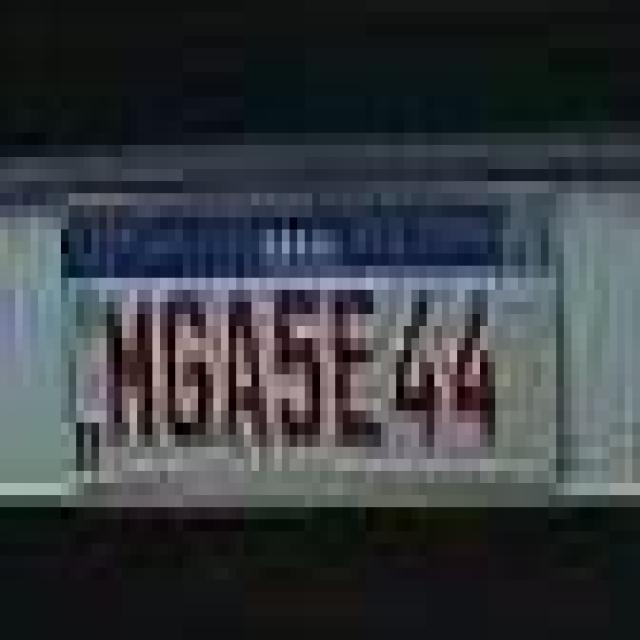4: (391, 280, 445, 462), (445, 279, 499, 453)
5: (266, 286, 327, 454)
A: (218, 287, 268, 451)
E: (325, 281, 395, 455)
G: (160, 284, 215, 450)
M: (103, 287, 157, 445)
